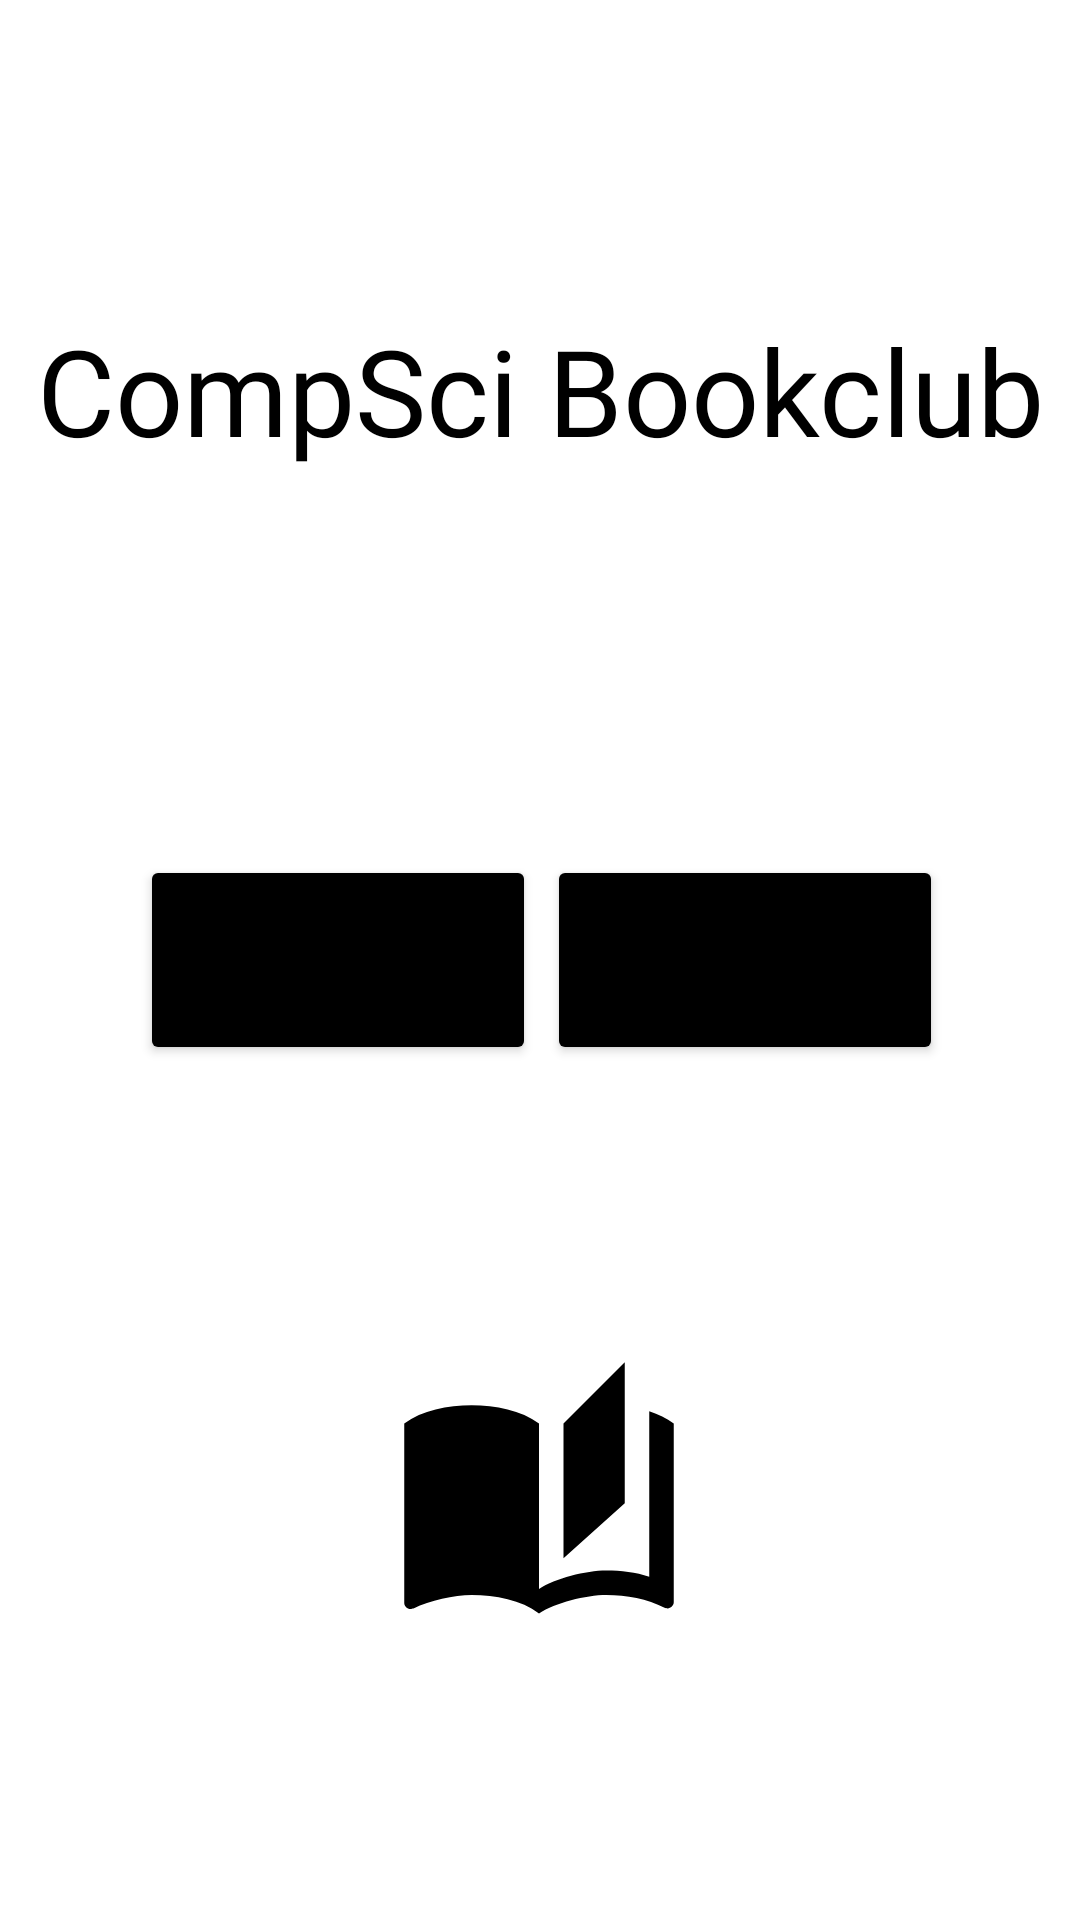

Icon bounding boxes for this 1080 × 1920 phone screenshot, format Rect(x1, y1, x2, y2):
book: Rect(404, 1362, 674, 1614)
